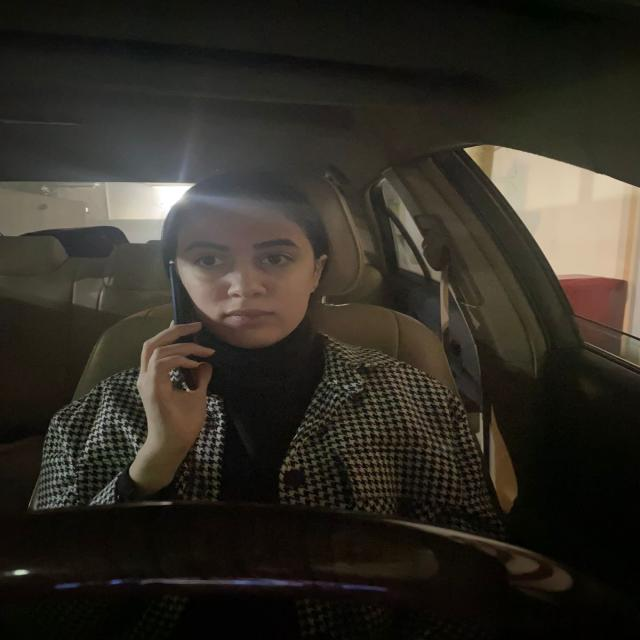phone: (157, 259, 199, 361)
